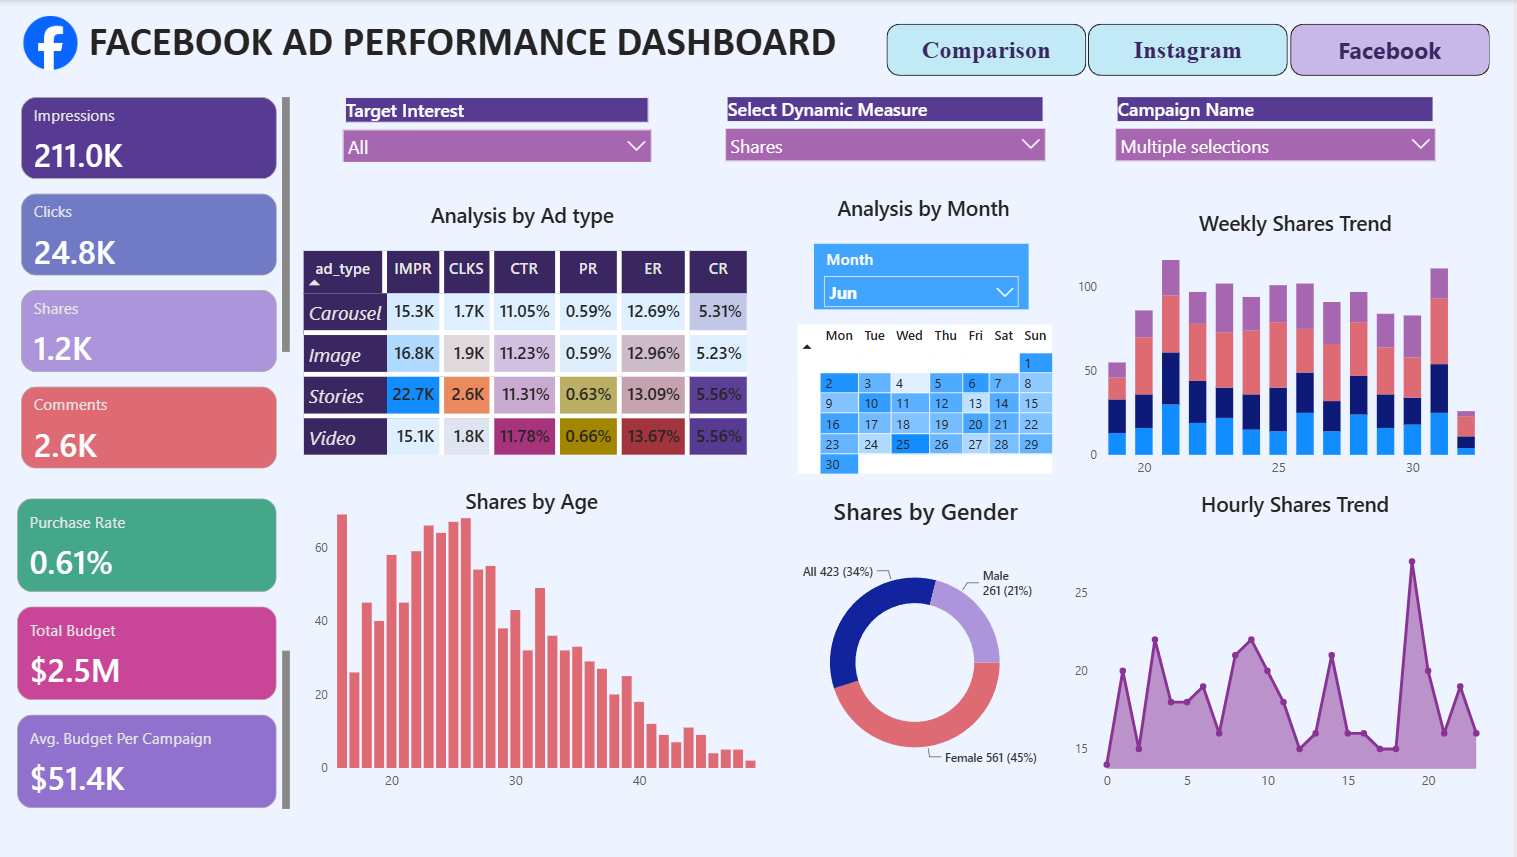

The page's visual inventory and layout, read from the dashboard file:
{"tool":"powerbi","page":{"name":"Facebook","canvas":[1570,900],"ordinal":2},"visuals":[{"type":"textbox","box":[88,12,838,66],"z":0},{"type":"columnChart","fields":{"Y":["ad_events.Shares"],"Category":["Calender Table.Week Number"],"Series":["ads.ad_type"]},"box":[1113,248.6,423.9,254.8],"z":0,"group":"g2"},{"type":"group","id":"g1","title":"Group 7","box":[311.1,255.1,481,340],"z":0,"group":"g6"},{"type":"card","fields":{"Values":["ad_events.Matrix Title"]},"box":[369.5,186.1,346.3,75.7],"z":1000,"group":"g6"},{"type":"group","id":"g2","title":"Group 3","box":[1110,210,436,618],"z":1000,"group":"g4"},{"type":"card","fields":{"Values":["ad_events.Age Title"]},"box":[1212.6,210,262.1,47],"z":1000,"group":"g2"},{"type":"pivotTable","fields":{"Rows":["Calender Table.Week Number"],"Columns":["Calender Table.Day Name"],"Values":["Min(Calender Table.Day Number)"]},"box":[822.8,330.5,279.6,175.1],"z":1000,"group":"g3"},{"type":"slicer","fields":{"Values":["Calender Table.Month"]},"box":[844.6,252.1,222.3,68],"z":2000,"group":"g3"},{"type":"areaChart","fields":{"Y":["ad_events.Shares"],"Category":["ad_events.Event Hour"]},"box":[1110,551.9,436,276.1],"z":2000,"group":"g2"},{"type":"image","box":[18,12,70,66],"z":3000},{"type":"card","fields":{"Values":["ad_events.Calender Title"]},"box":[831.5,193.8,252.9,46.5],"z":3000,"group":"g3"},{"type":"card","fields":{"Values":["ad_events.Hourly Title"]},"box":[1198.6,489.8,290.1,68.4],"z":3000,"group":"g2"},{"type":"cardVisual","fields":{"Data":["ad_events.Impressions","ad_events.Clicks","ad_events.Shares","ad_events.Comments","ad_events.Purchases","ad_events.Engagements"]},"box":[18,96,288,406],"z":6000},{"type":"cardVisual","fields":{"Data":["ad_events.CTR(Click Through Rate)","ad_events.Engagement Rate","ad_events.Conversion Rate","ad_events.Purchase Rate","ad_events.Total Budget","ad_events.Avg. Budget Per Campaign"]},"box":[14,504,292,340],"z":7000},{"type":"slicer","fields":{"Values":["Select Dynamic Measure.Select Dynamic Measure"]},"box":[742,96,352,72],"z":8000},{"type":"donutChart","fields":{"Y":["ad_events.Shares"],"Category":["ads.target_gender"]},"box":[785,557.3,328.5,256.8],"z":8000,"group":"g7"},{"type":"group","id":"g3","title":"Group 1","box":[822.8,193.8,279.6,311.8],"z":9000},{"type":"card","fields":{"Values":["ad_events.Gender Title"]},"box":[808.5,505.9,304.4,48.6],"z":9000,"group":"g7"},{"type":"group","id":"g4","title":"Group 4","box":[1110,210,436,618],"z":10000},{"type":"group","id":"g5","title":"Group 5","box":[322.7,497.2,468.1,328.5],"z":11000},{"type":"pivotTable","fields":{"Rows":["ads.ad_type"],"Values":["ad_events.Impressions","ad_events.Clicks","ad_events.CTR(Click Through Rate)","ad_events.Purchase Rate","ad_events.Engagement Rate","ad_events.Conversion Rate"]},"box":[311.1,255.1,481,340],"z":12000,"group":"g1"},{"type":"columnChart","fields":{"Y":["ad_events.Shares"],"Category":["users.user_age"]},"box":[322.7,515.2,469.5,312.5],"z":12000,"group":"g5"},{"type":"slicer","fields":{"Values":["campaigns.name"]},"box":[1146,96,352,72],"z":13000},{"type":"card","fields":{"Values":["ad_events.Age Title"]},"box":[359.7,497.2,383.8,46.5],"z":13000,"group":"g5"},{"type":"slicer","fields":{"Values":["ads.target_interests"]},"box":[346,96,340,72],"z":14000},{"type":"group","id":"g6","title":"Group 6","box":[311.1,186.1,479.7,407],"z":15000},{"type":"group","id":"g7","title":"Group 2","box":[785,505.9,328.5,308.2],"z":16000},{"type":"pageNavigator","box":[920,24,626,54],"z":17000}]}

Visuals, with their boxes in screenshot pixels (x1, y1, x2, y2), scaled from the page's 1570x900 canvas onto the 1517x857 screenshot:
textbox: x1=85 y1=11 x2=895 y2=74
columnChart - ad_events.Shares x Calender Table.Week Number: x1=1075 y1=237 x2=1485 y2=479
"Group 7" group: x1=301 y1=243 x2=765 y2=567
card - ad_events.Matrix Title: x1=357 y1=177 x2=692 y2=249
"Group 3" group: x1=1073 y1=200 x2=1494 y2=788
card - ad_events.Age Title: x1=1172 y1=200 x2=1425 y2=245
pivotTable - Calender Table.Week Number x Calender Table.Day Name: x1=795 y1=315 x2=1065 y2=481
slicer - Calender Table.Month: x1=816 y1=240 x2=1031 y2=305
areaChart - ad_events.Shares x ad_events.Event Hour: x1=1073 y1=526 x2=1494 y2=788
image: x1=17 y1=11 x2=85 y2=74
card - ad_events.Calender Title: x1=803 y1=185 x2=1048 y2=229
card - ad_events.Hourly Title: x1=1158 y1=466 x2=1438 y2=532
cardVisual - ad_events.Impressions x ad_events.Clicks: x1=17 y1=91 x2=296 y2=478
cardVisual - ad_events.CTR(Click Through Rate) x ad_events.Engagement Rate: x1=14 y1=480 x2=296 y2=804
slicer - Select Dynamic Measure.Select Dynamic Measure: x1=717 y1=91 x2=1057 y2=160
donutChart - ad_events.Shares x ads.target_gender: x1=758 y1=531 x2=1076 y2=775
"Group 1" group: x1=795 y1=185 x2=1065 y2=481
card - ad_events.Gender Title: x1=781 y1=482 x2=1075 y2=528
"Group 4" group: x1=1073 y1=200 x2=1494 y2=788
"Group 5" group: x1=312 y1=473 x2=764 y2=786
pivotTable - ads.ad_type x ad_events.Impressions: x1=301 y1=243 x2=765 y2=567
columnChart - ad_events.Shares x users.user_age: x1=312 y1=491 x2=765 y2=788
slicer - campaigns.name: x1=1107 y1=91 x2=1447 y2=160
card - ad_events.Age Title: x1=348 y1=473 x2=718 y2=518
slicer - ads.target_interests: x1=334 y1=91 x2=663 y2=160
"Group 6" group: x1=301 y1=177 x2=764 y2=565
"Group 2" group: x1=758 y1=482 x2=1076 y2=775
pageNavigator: x1=889 y1=23 x2=1494 y2=74
